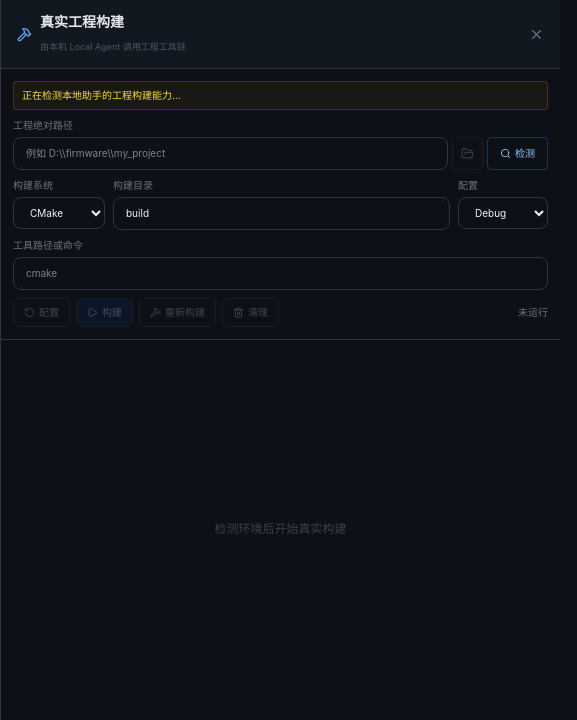
Test case: ProjectBuildPanel capability-gated workflow › computes an artifact hash on demand without reading its content in the browser
Type "D:\\firmware\\demo" into the field with placeholder "例如 D:\\\\firmware\\\\my_project" at (230, 154), box [13,137,448,170]
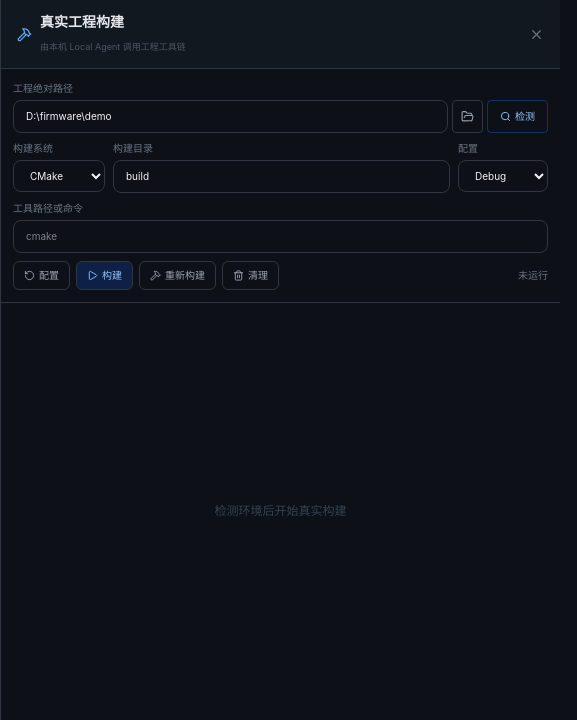
Expected: the button "构建" is enabled
Click the button "构建" at (104, 276), box [76,261,133,290]
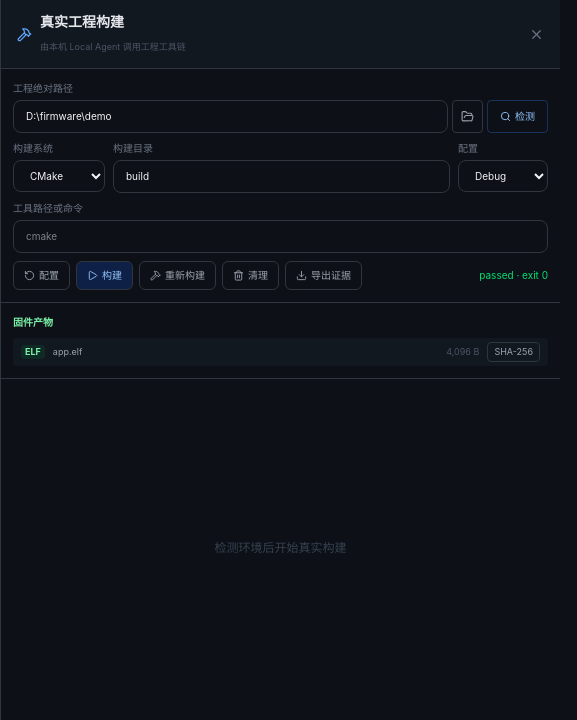
Click the button "SHA-256" at (514, 352), box [487,342,540,362]
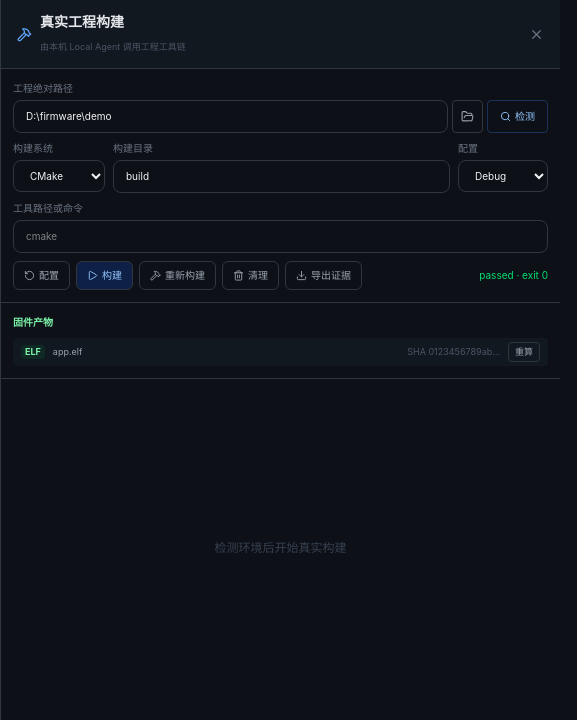
Expected: the text "SHA 0123456789ab…" is shown, [407,345,500,358]
